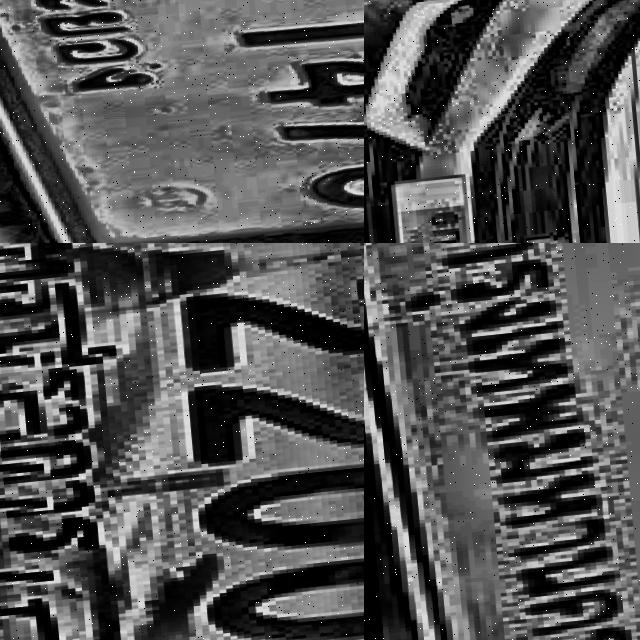license-plate: (0, 243, 364, 640), (364, 243, 640, 640), (0, 0, 364, 243), (368, 173, 481, 243)
